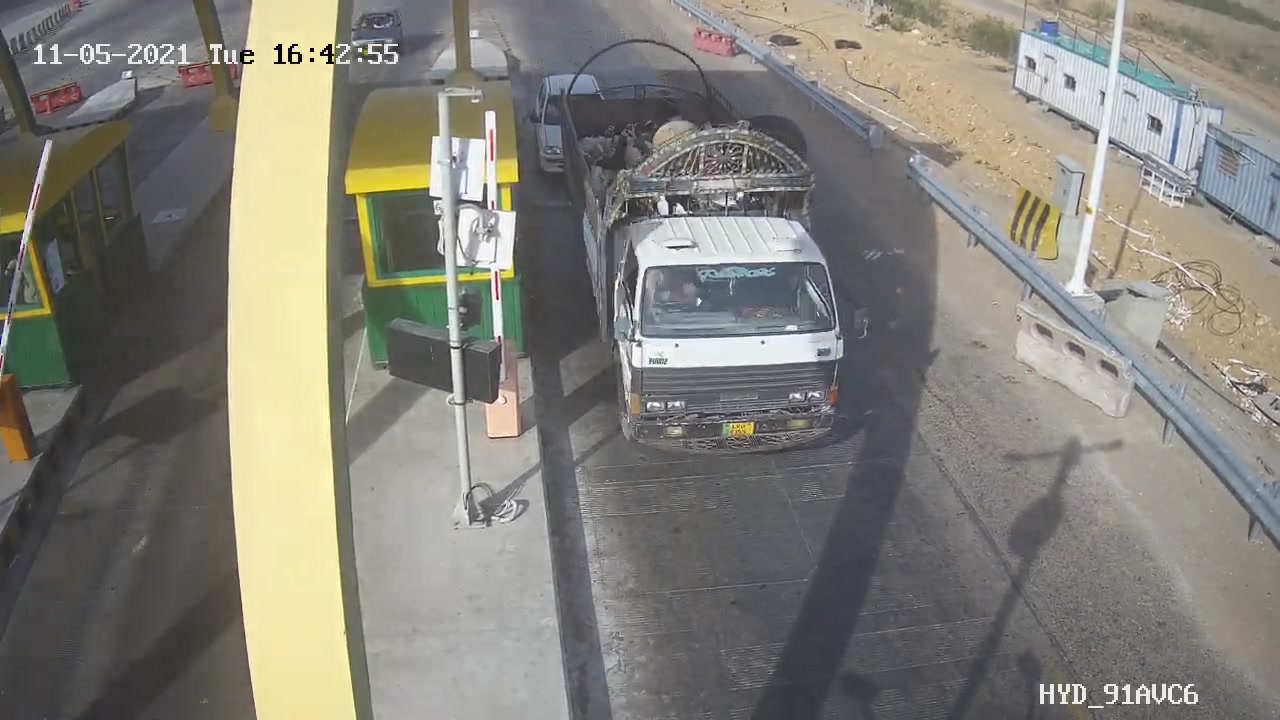F5: (542, 22, 904, 470)
